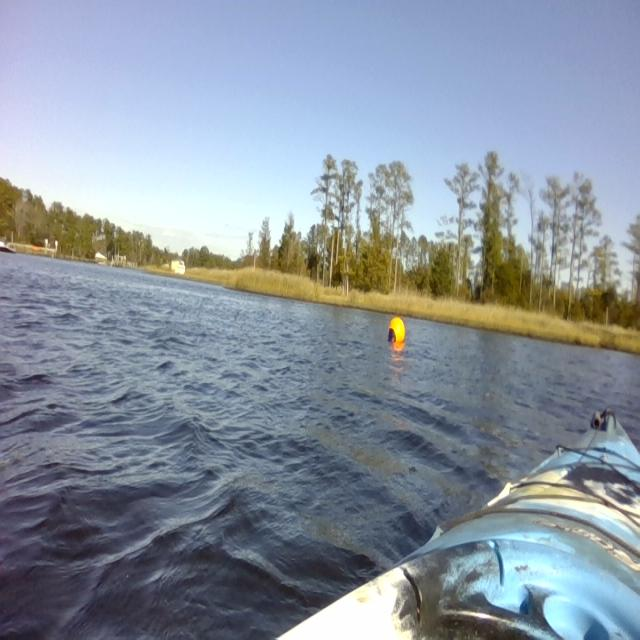Buoy: (378, 309, 409, 359)
